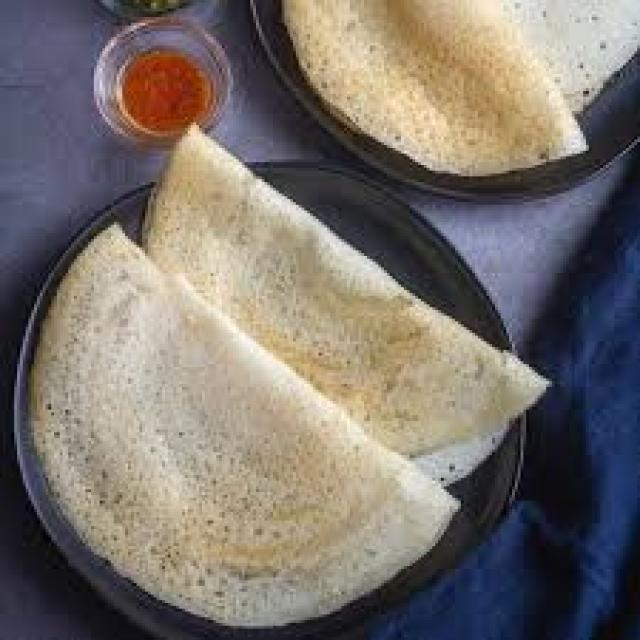DOSA: (26, 217, 463, 634), (148, 120, 545, 488), (287, 0, 590, 173)
